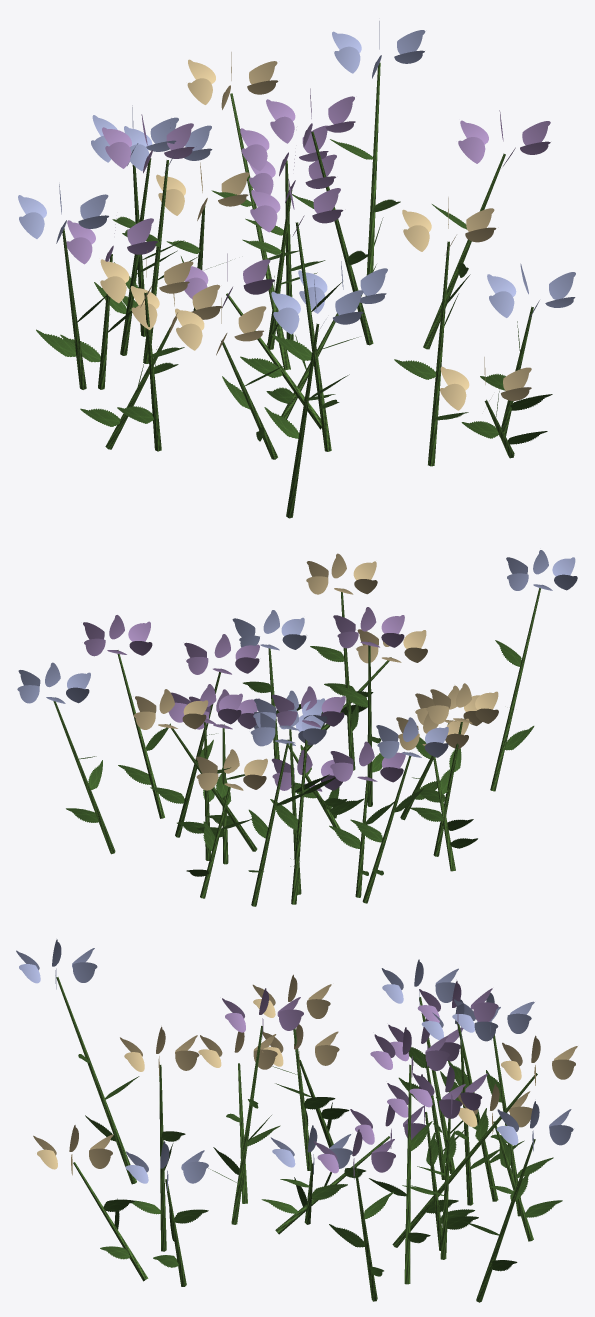
The model's file is windfall-wildflower-patch.glb.
3 renders of one model, top to bottom at view 1: azimuth 30°, elevation 25°; view 2: azimuth 150°, elevation 25°; view 3: azimuth 270°, elevation 25°, orthographic. The views are drawn at different scales.
Parts seen in each view (by area): view 1: petal, stem, leaf; view 2: petal, stem, leaf; view 3: petal, stem, leaf.
Part boxes in pixels (x1,y1,x2,y2): petal: (18,21,575,410); stem: (62,62,533,518); leaf: (36,139,552,484); petal: (17,550,577,791); stem: (53,588,540,906); leaf: (66,640,534,876); petal: (16,939,577,1191); stem: (56,977,537,1302); leaf: (78,1047,562,1276).
Bounding box in the file's own units: 1.75 × 0.861 × 1.97.
3 materials, 3 textured.
